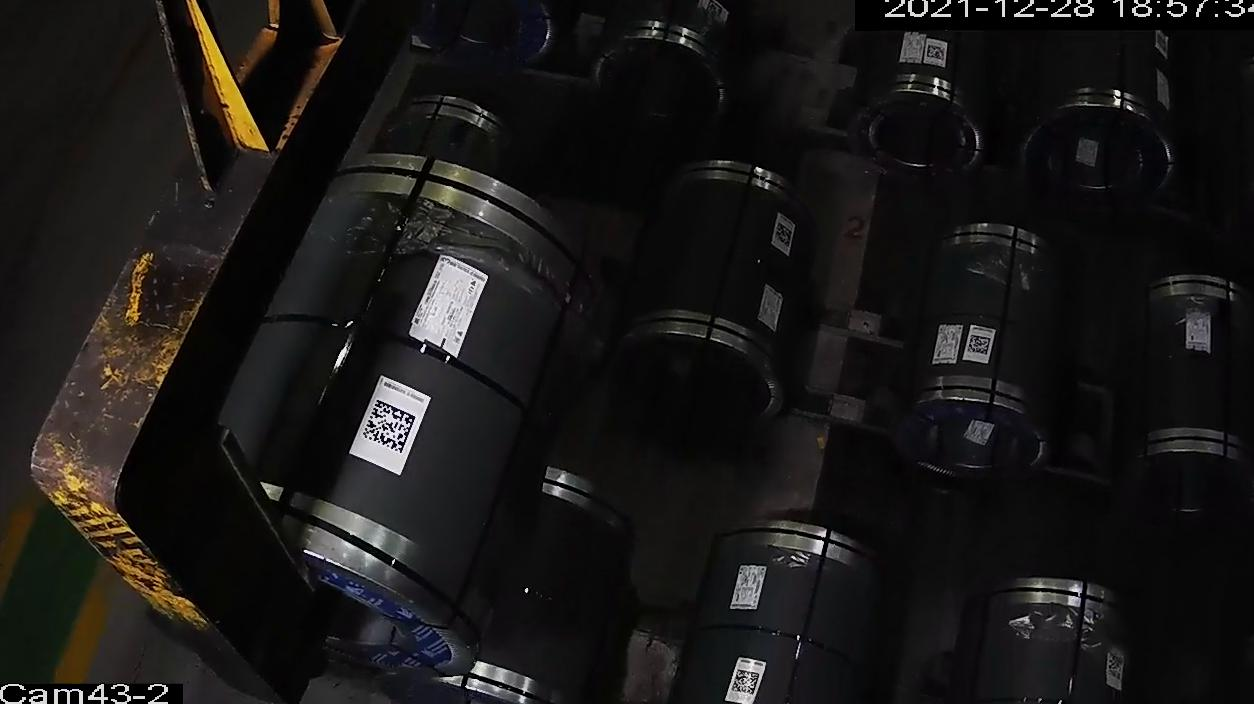data matrix: (357, 397, 420, 460), (729, 668, 763, 698), (1102, 652, 1129, 682), (700, 1, 729, 26), (967, 333, 995, 358), (1153, 30, 1175, 60), (773, 222, 796, 250), (925, 41, 949, 64)
